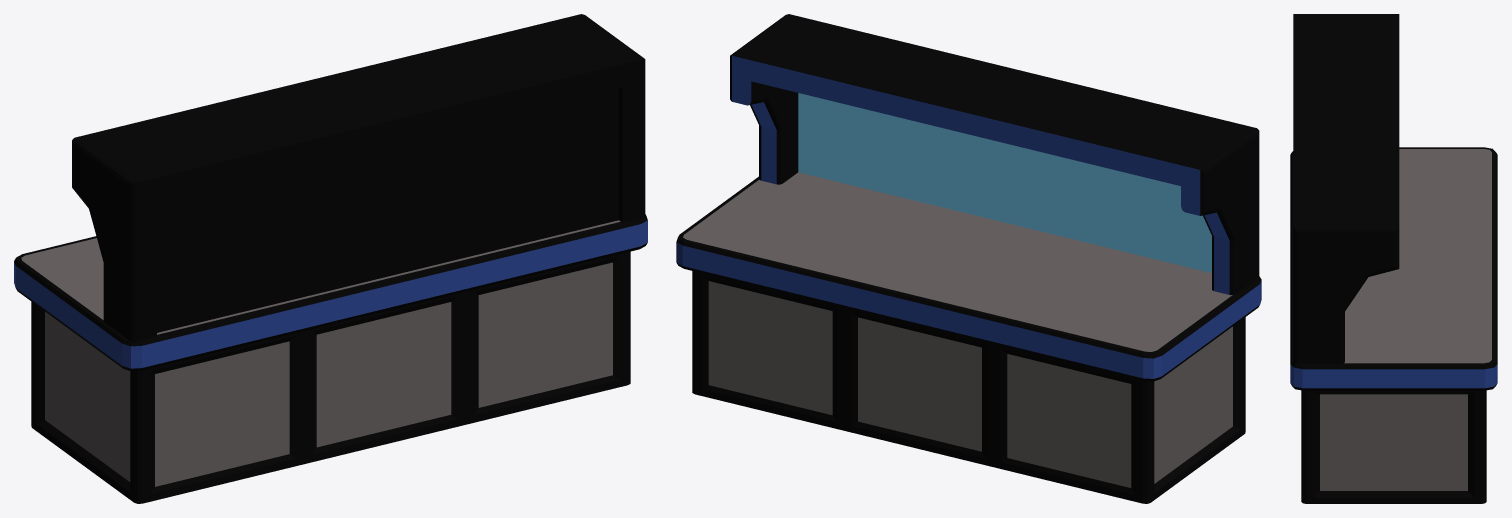
The model's file is workbench2.fbx.
3 views of the same model, side by side, from view 1: azimuth 30°, elevation 25°; view 2: azimuth 150°, elevation 25°; view 3: azimuth 270°, elevation 25° (orthographic). The views are drawn at different scales.
Visible parts, largest first — view 1: Cube.001, Cube, Pillars, Cube.002; view 2: Cube.001, Cube.002, Pillars, Cube; view 3: Pillars, Cube.002, Cube.001.
Part boxes in pixels (x1,y1,x2,y2): Cube.001: [31, 251, 630, 503]; Cube: [157, 88, 618, 332]; Pillars: [72, 14, 645, 342]; Cube.002: [14, 214, 647, 371]; Cube.001: [692, 271, 1245, 503]; Cube.002: [676, 172, 1261, 381]; Pillars: [730, 14, 1259, 294]; Cube: [798, 93, 1211, 272]; Pillars: [1293, 14, 1399, 363]; Cube.002: [1290, 147, 1497, 390]; Cube.001: [1301, 390, 1486, 503].
Bounding box in the file's own units: 500 × 298 × 200.
Materials: 1 (1 with a texture image).
